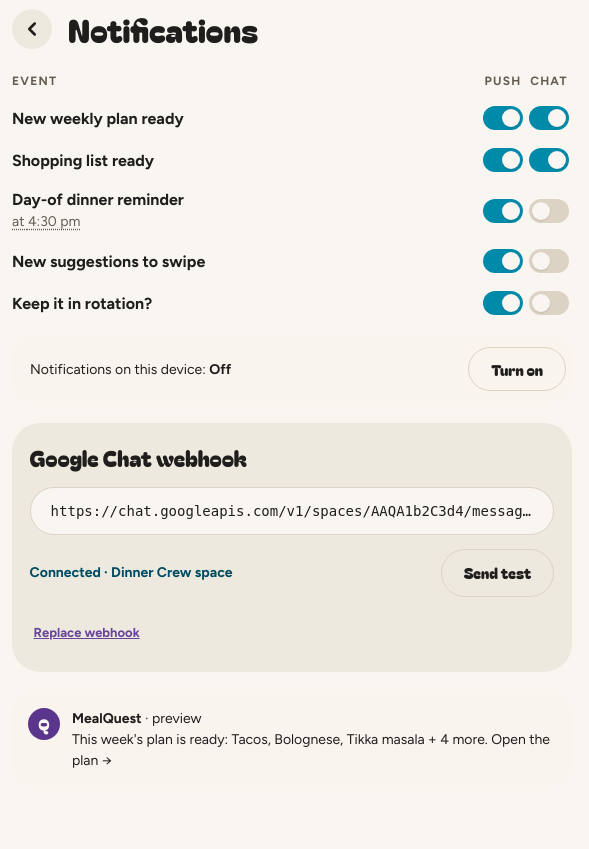
NotificationsPage push permission row › turns push on from the tap: asks permission, subscribes and stores the subscription
Expected: the text "Off" is shown, [209,360,231,378]
Click the button "Turn on".
click(517, 369)  # box [468,347,566,391]
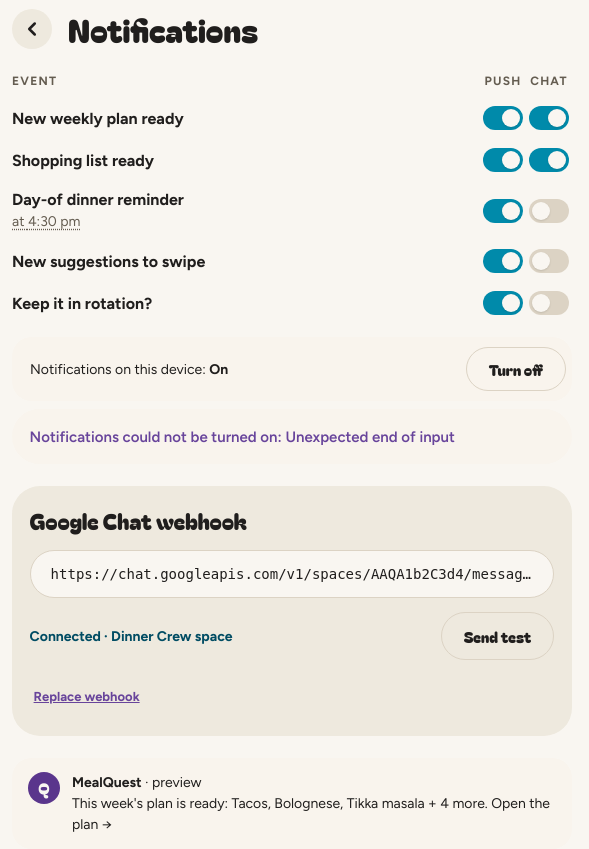
Expected: the text "On" is shown, [209,360,228,378]
Expected: the button "Turn off" is shown, [466,347,566,391]
